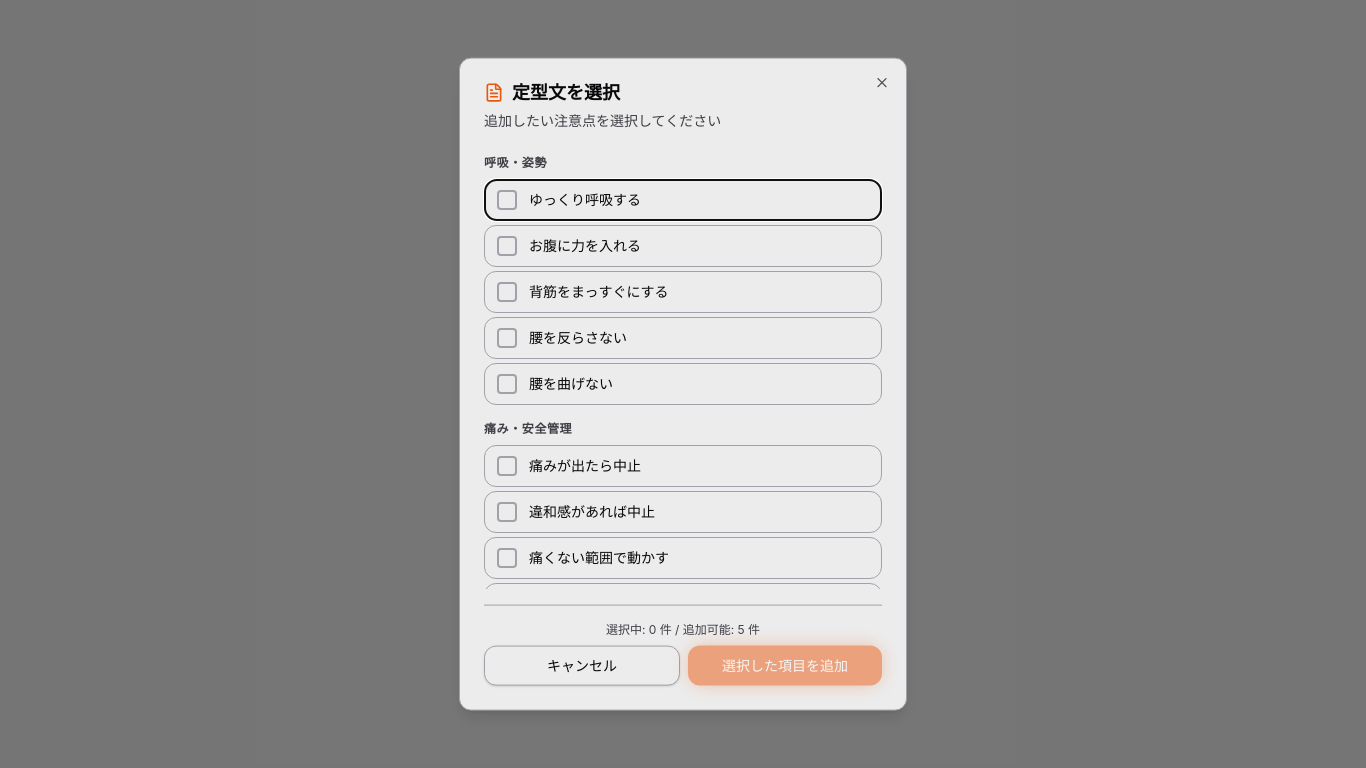
Scenario: PrecautionSnippetDialog › 選択機能 › 定型文をクリックで選択状態になる
Click the button "ゆっくり呼吸する" at [585, 199], box x1=484 y1=179 x2=882 y2=221
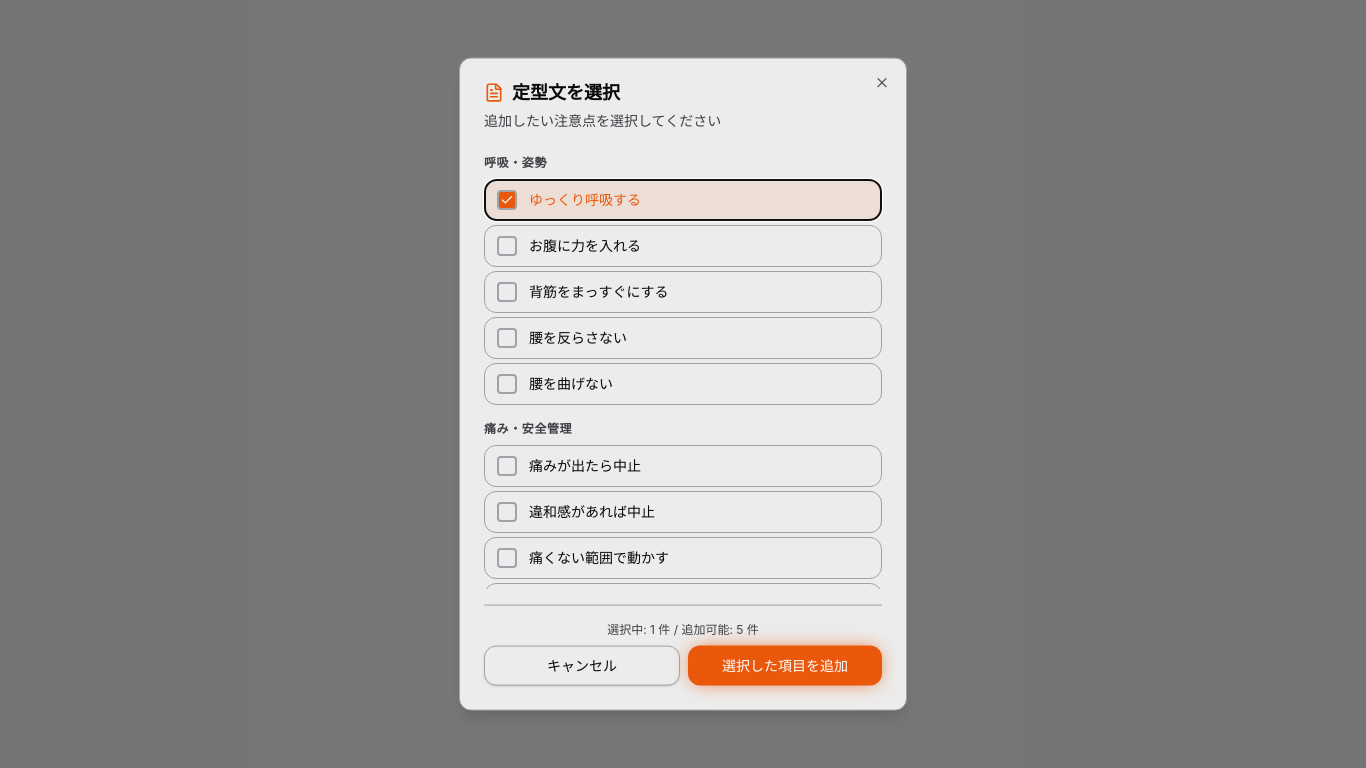
Now the text "選択中: 1 件 / 追加可能: 5 件" is shown, box x1=607 y1=621 x2=759 y2=636
